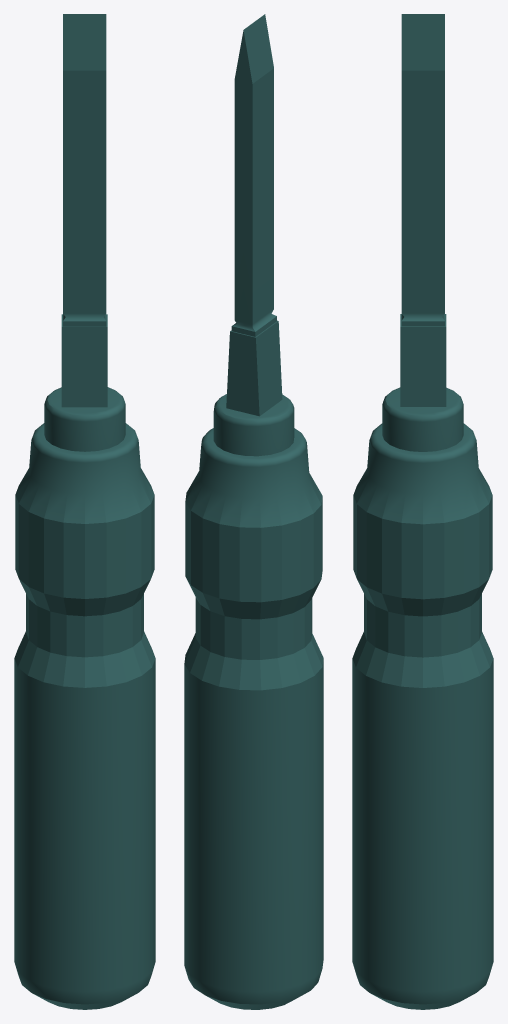
Rendered from screwdriver 2 low.fbx.
3 views of the same model, side by side, from view 1: azimuth 90°, elevation 25°; view 2: azimuth 150°, elevation 25°; view 3: azimuth 270°, elevation 25° (orthographic).
Visible parts, largest first — view 1: screwdriver2_01_low, screwdriver2_02_low; view 2: screwdriver2_01_low, screwdriver2_02_low; view 3: screwdriver2_01_low, screwdriver2_02_low.
Boxes of the visible parts, x1,y1,x2,y2 form: screwdriver2_01_low: (14,387,155,1009); screwdriver2_02_low: (61,14,107,407); screwdriver2_01_low: (184,394,323,1009); screwdriver2_02_low: (226,14,282,416); screwdriver2_01_low: (352,387,493,1009); screwdriver2_02_low: (400,14,446,406).
Bounding box in the file's own units: 3.44 × 26.28 × 3.44.
